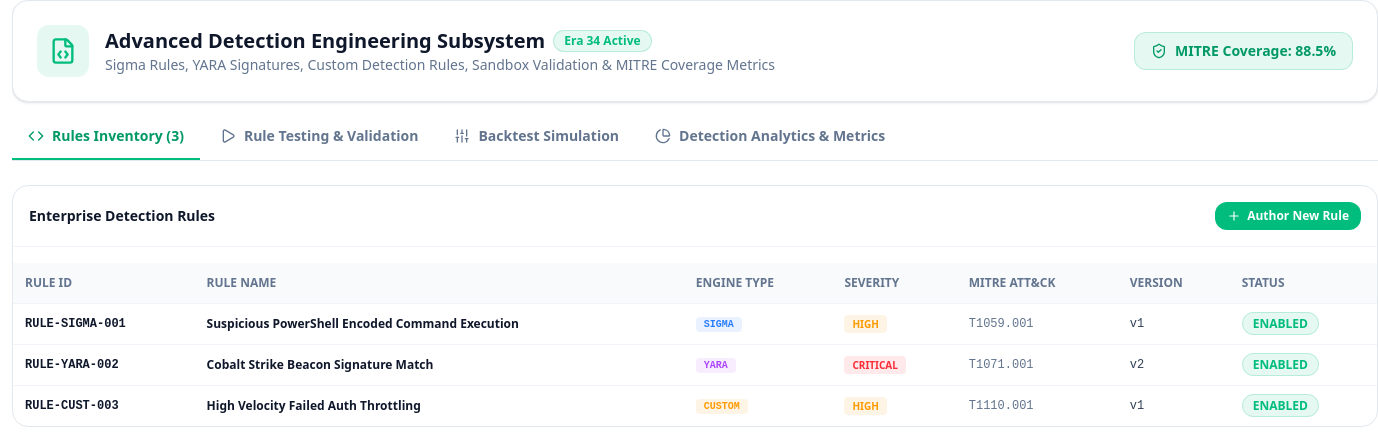
Test: AdvancedDetectionEngineeringDashboard › switches tab to Backtest Simulation and renders historical metrics
This screenshot has width=1378, height=444.
Click the button "Backtest Simulation" at (537, 143), box left=438, top=126, right=635, bottom=160
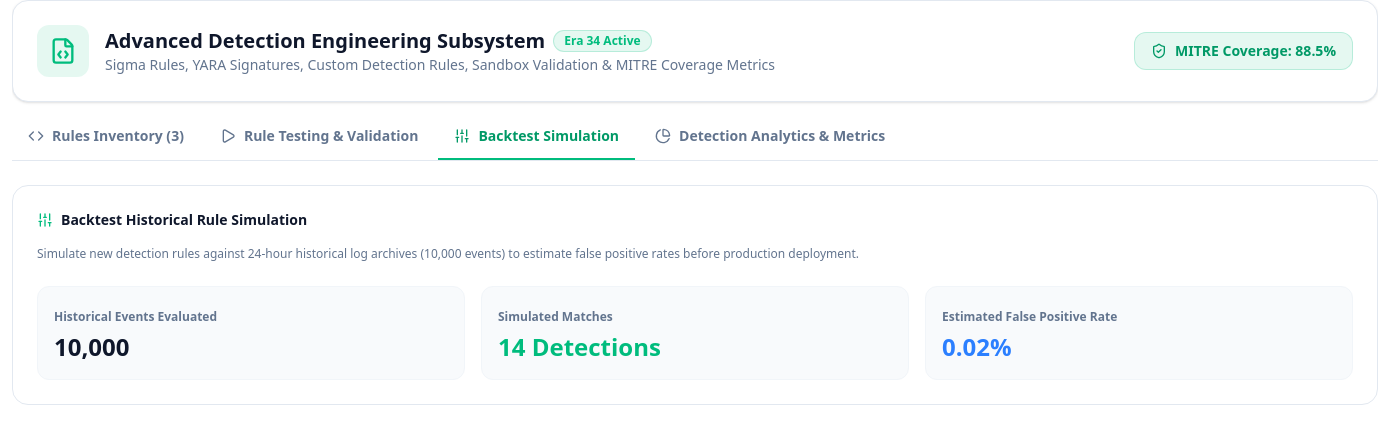
Expected: the heading "Backtest Historical Rule Simulation" is shown, left=37, top=210, right=307, bottom=229
Expected: the text "14 Detections" is shown, left=498, top=330, right=661, bottom=363
